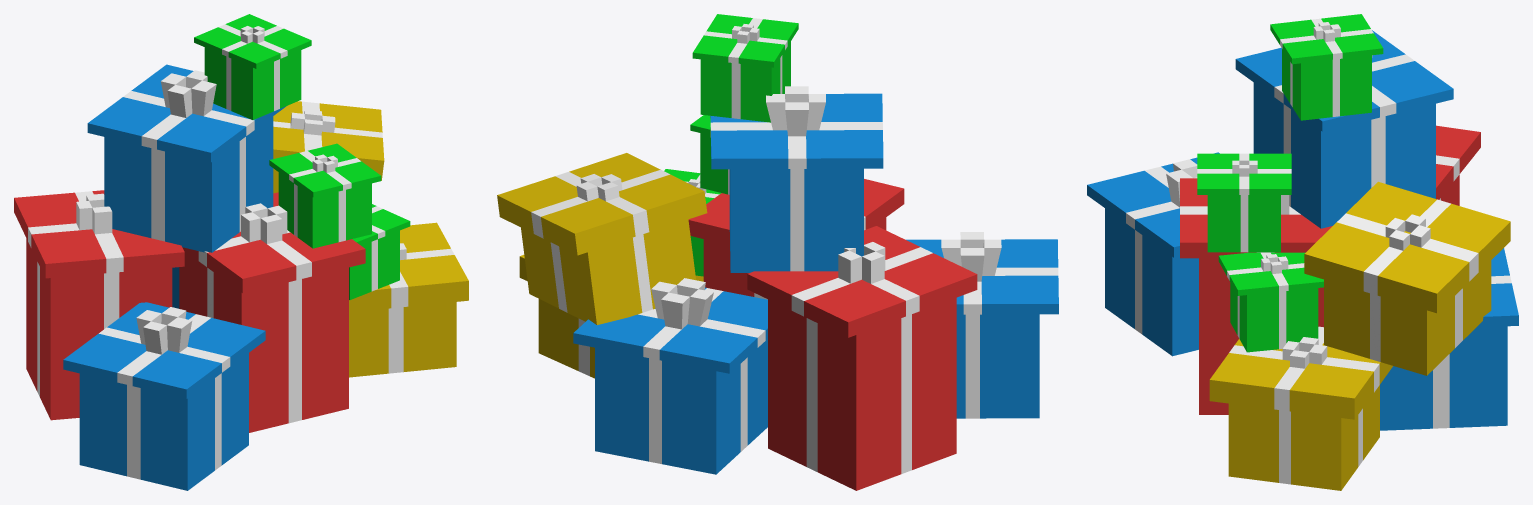
File: REGALOS.fbx
3 renders of one model, left to right at view 1: azimuth 30°, elevation 25°; view 2: azimuth 150°, elevation 25°; view 3: azimuth 270°, elevation 25°, orthographic. The views are drawn at different scales.
Parts seen in each view (by area): view 1: Cube.013, Cube.003, Cube.010, Cube.011, Cube.004, Cube.012, Cube.005, Cube.009, Cube.008; view 2: Cube.011, Cube.007, Cube.010, Cube.009, Cube.013, Cube.012, Cube.003, Cube.004, Cube.005, Cube.008; view 3: Cube.009, Cube.004, Cube.010, Cube.013, Cube.007, Cube.012, Cube.005, Cube.003, Cube.008, Cube.011.
Boxes of the visible parts, <box> form: Cube.013: <box>63,302,265,490</box>; Cube.003: <box>179,192,365,432</box>; Cube.010: <box>87,64,286,252</box>; Cube.011: <box>14,190,184,420</box>; Cube.004: <box>349,222,468,377</box>; Cube.012: <box>194,14,311,119</box>; Cube.005: <box>269,143,381,248</box>; Cube.009: <box>273,101,384,193</box>; Cube.008: <box>349,204,410,299</box>; Cube.011: <box>747,226,977,490</box>; Cube.007: <box>573,278,767,474</box>; Cube.010: <box>710,86,883,272</box>; Cube.009: <box>497,153,707,324</box>; Cube.013: <box>906,232,1058,418</box>; Cube.012: <box>692,14,798,122</box>; Cube.003: <box>688,179,904,299</box>; Cube.004: <box>519,254,703,378</box>; Cube.005: <box>690,115,729,194</box>; Cube.008: <box>664,169,721,276</box>; Cube.009: <box>1304,181,1510,375</box>; Cube.004: <box>1209,326,1392,490</box>; Cube.010: <box>1235,30,1453,228</box>; Cube.013: <box>1087,152,1219,356</box>; Cube.007: <box>1380,248,1518,430</box>; Cube.012: <box>1270,14,1383,120</box>; Cube.005: <box>1197,153,1291,252</box>; Cube.003: <box>1180,178,1332,414</box>; Cube.008: <box>1218,252,1323,352</box>; Cube.011: <box>1436,125,1480,205</box>.
Bounding box in the file's own units: 814 × 611 × 649.
